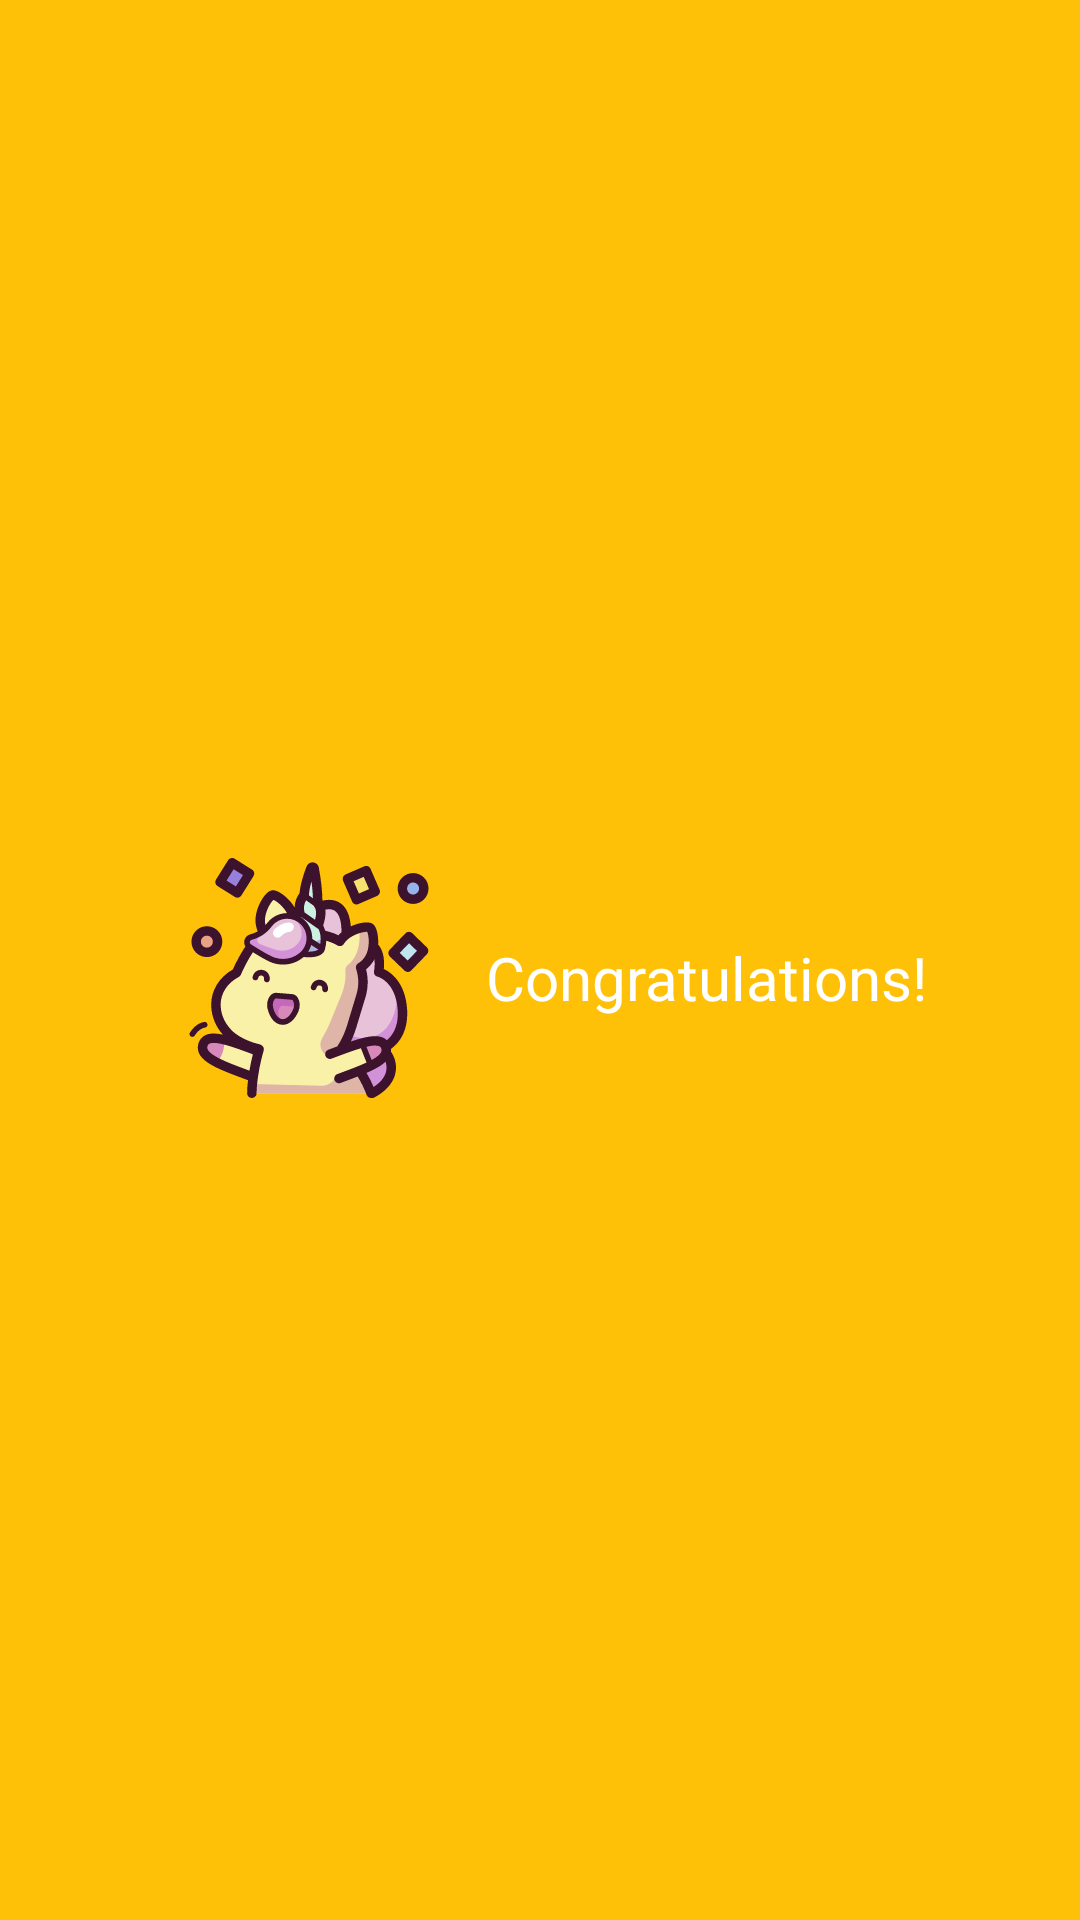

Point at icon controls on the screen. Image size 1080*1920, points as (x=x, y=y).
win: (x=309, y=978)
